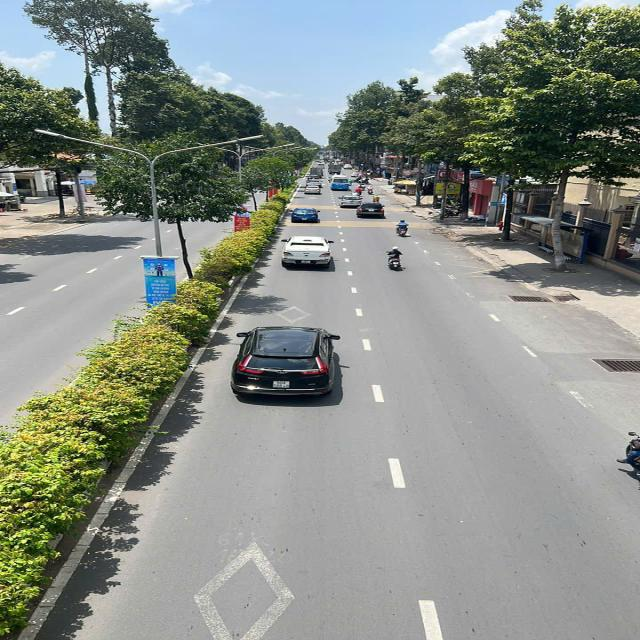Bus: (330, 176, 349, 190)
Truck: (328, 163, 342, 174), (309, 167, 324, 177)
car: (230, 326, 342, 399), (283, 235, 331, 271), (357, 203, 388, 219), (293, 207, 319, 222), (340, 196, 362, 208), (304, 187, 320, 194), (306, 182, 322, 187), (308, 176, 321, 182), (352, 172, 363, 176), (344, 164, 352, 169), (318, 164, 326, 166)
motobyte: (385, 248, 401, 270), (395, 220, 409, 238), (372, 195, 382, 204), (360, 183, 365, 190), (368, 186, 372, 194), (357, 188, 361, 194), (353, 192, 356, 196)
